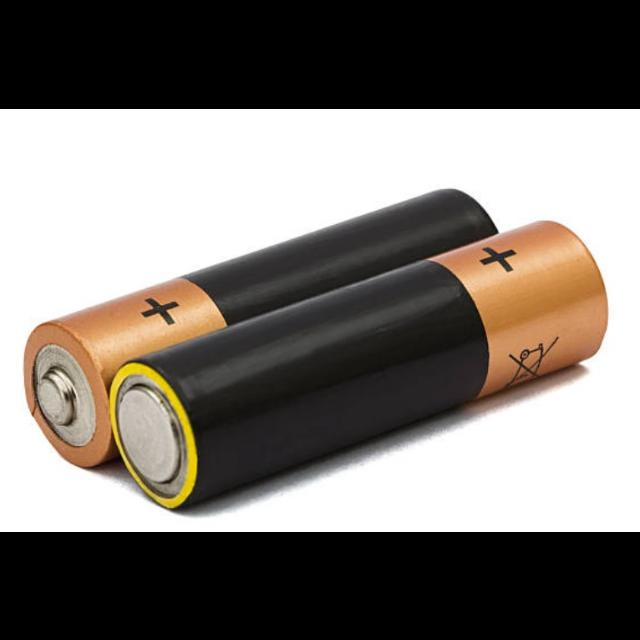Battery: (109, 220, 609, 508), (23, 188, 498, 467)
